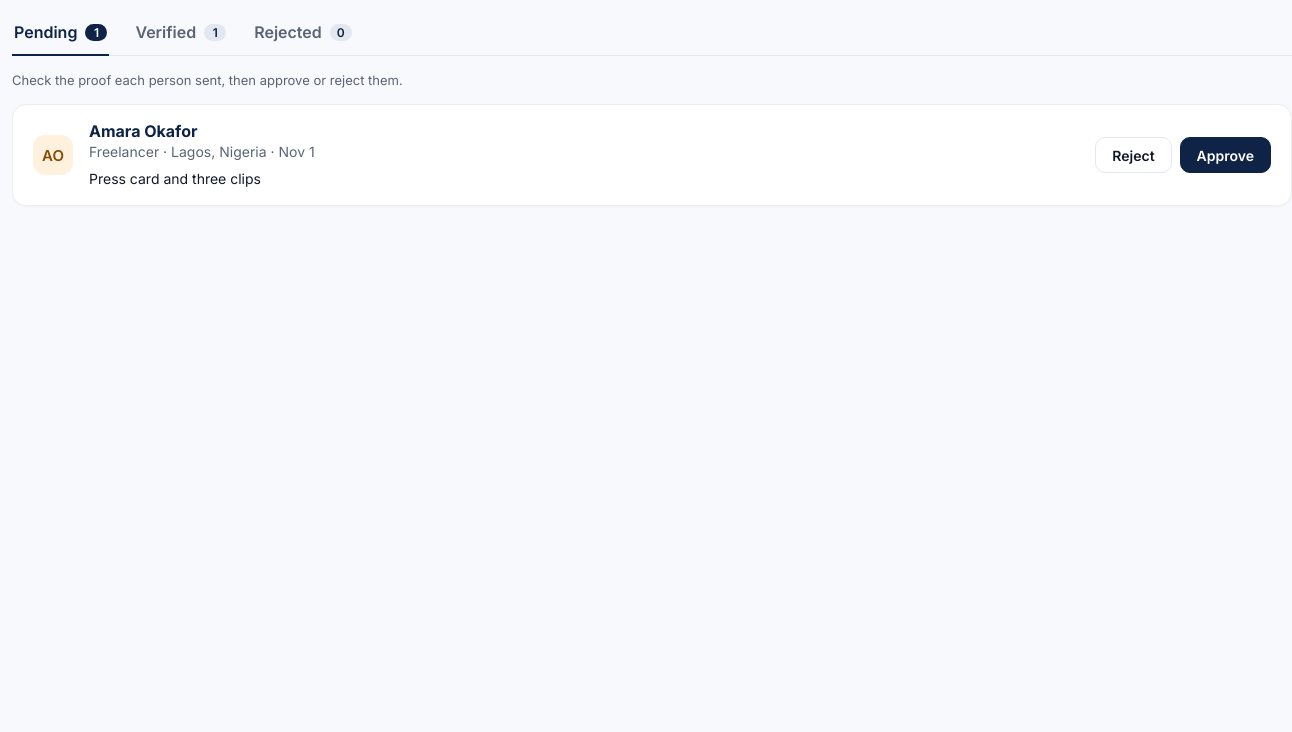
Test: VerificationList › can take verification away from someone
Click the button "Verified 1": (181, 34) [133,12,228,56]
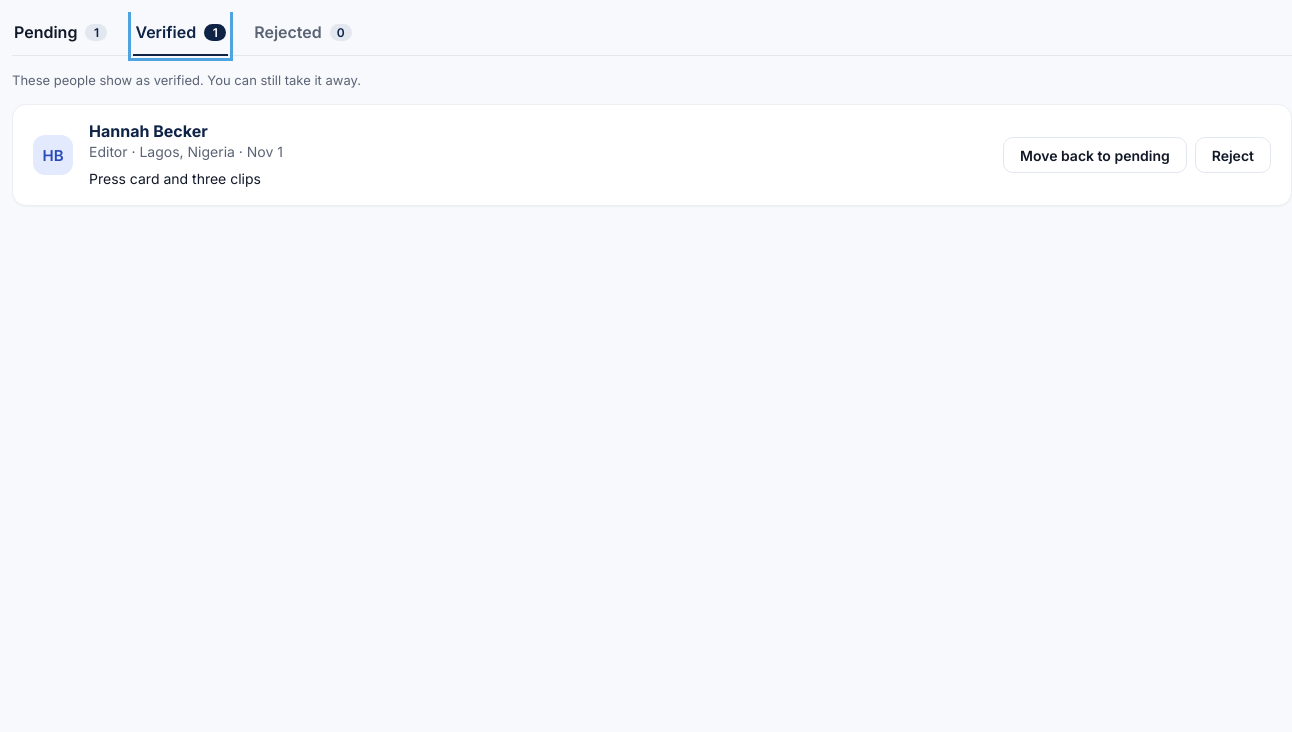
Click the button "Reject": (1233, 155) [1195,137,1271,173]
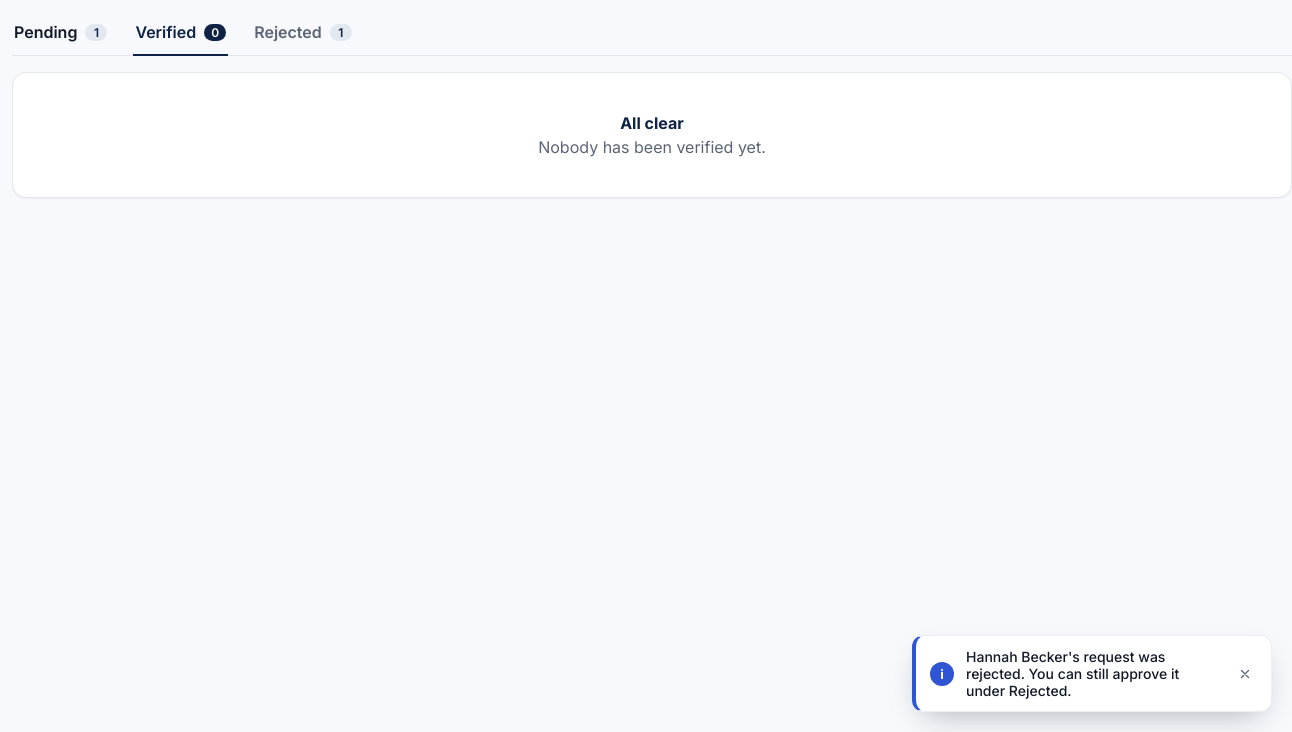
Now the text "All clear Nobody has been verified yet." is shown, box [12,72,1291,198]
